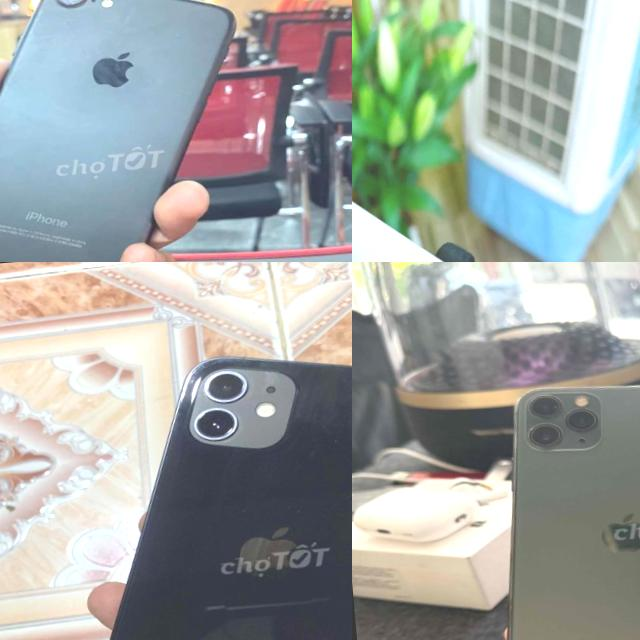gen_11: (507, 386, 640, 640)
gen_12_13: (44, 333, 352, 640), (352, 115, 563, 262)
gen_7_8: (0, 0, 248, 262)
